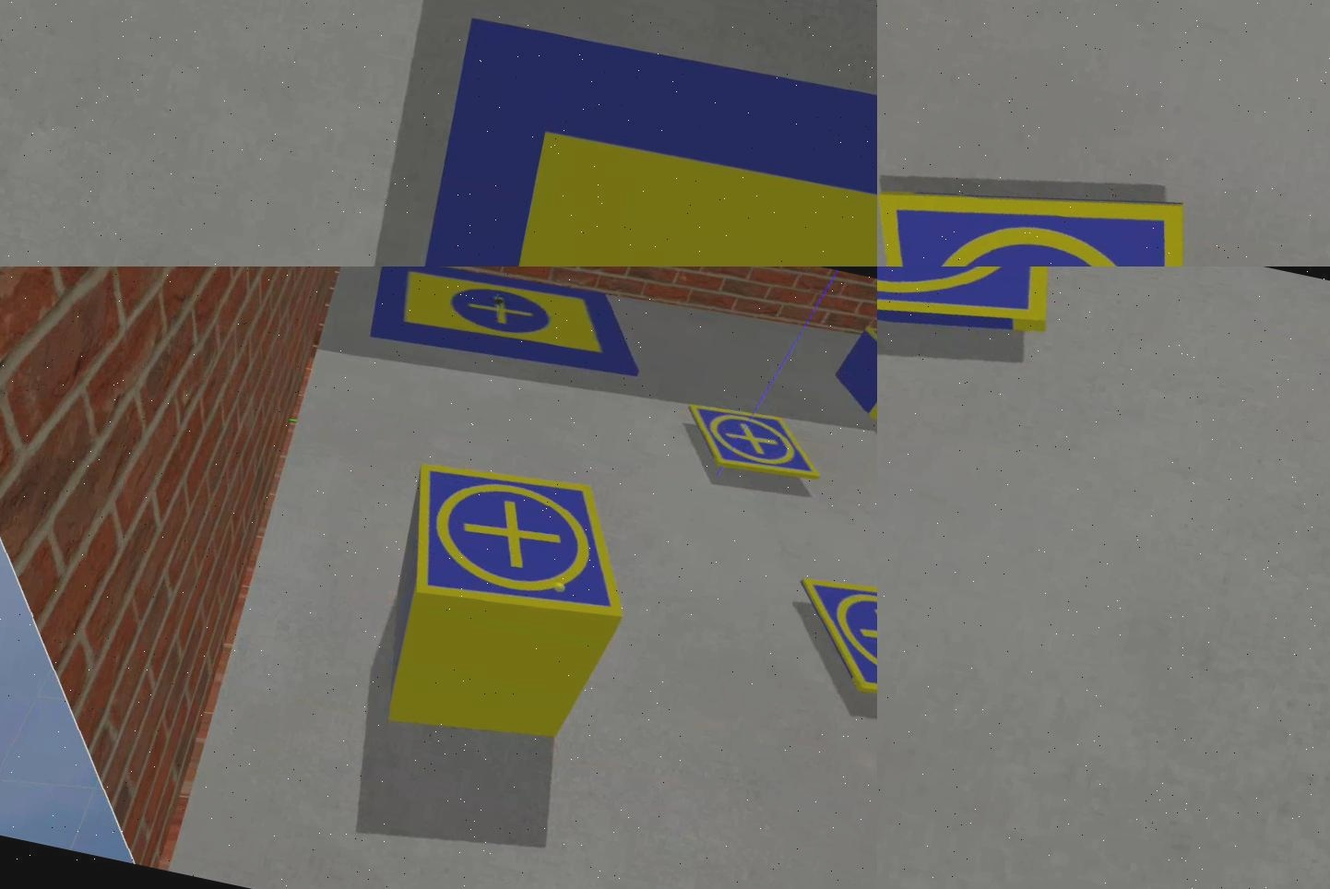large_base: (355, 7, 877, 267), (365, 267, 655, 395)
small_base: (391, 449, 649, 645), (877, 141, 1238, 267), (877, 267, 1070, 382), (783, 567, 877, 728), (677, 397, 829, 495)
